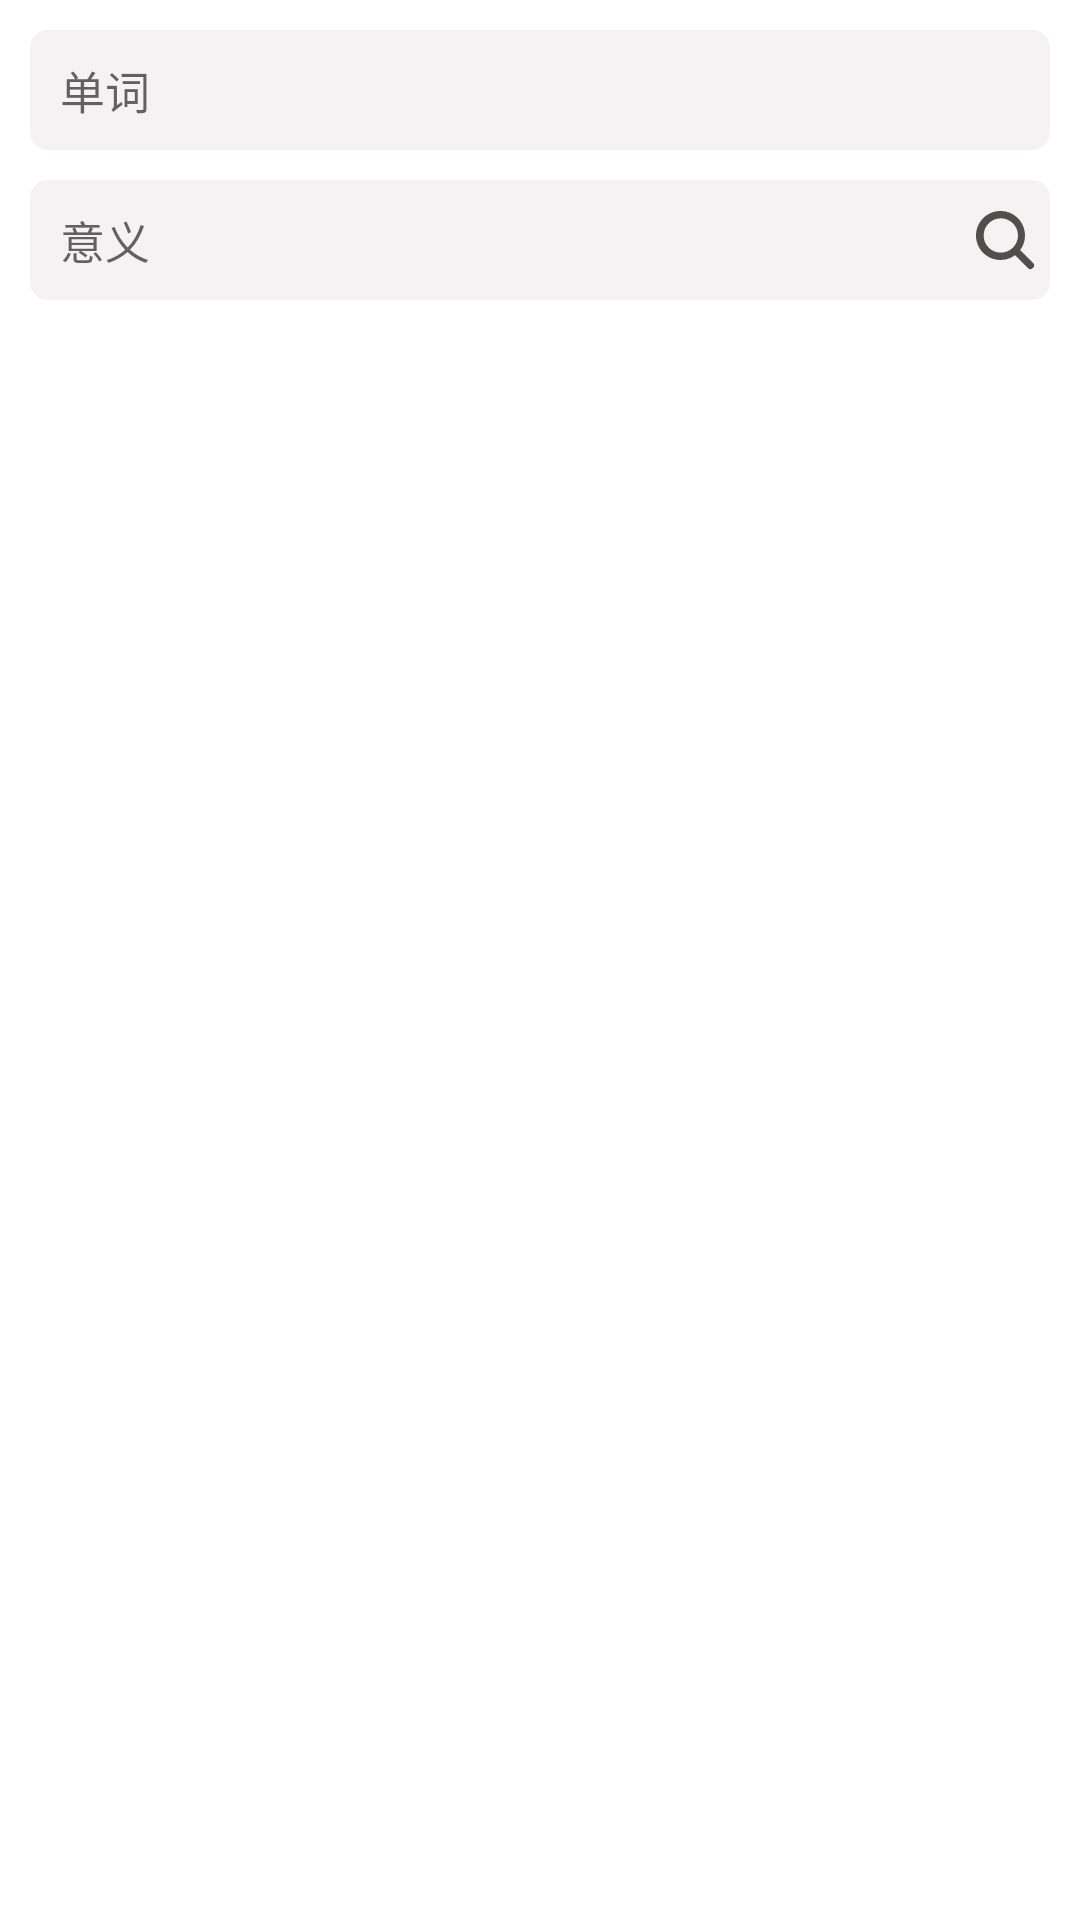

Icons on this 1080*1920 Android screen, each with the point to tap as (x,y):
query: (1005,240)
